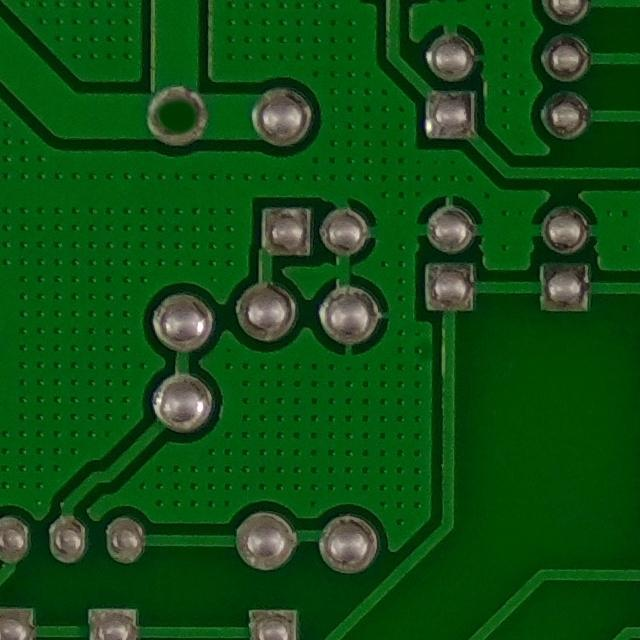missing_hole: (142, 80, 213, 149)
